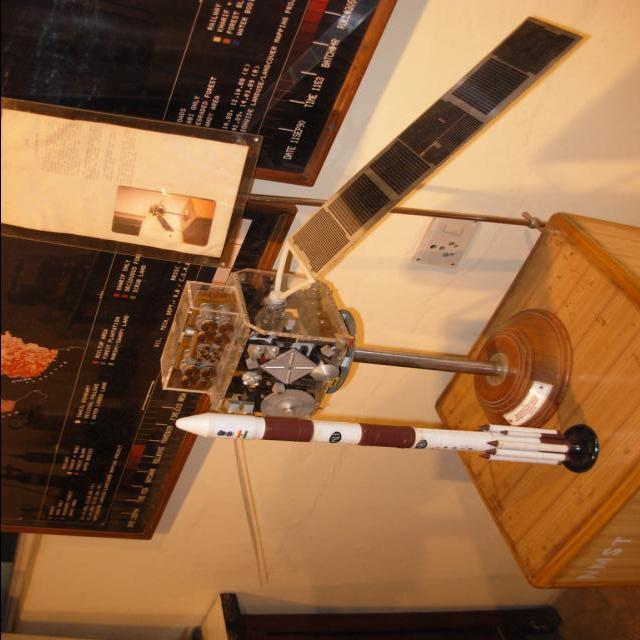Missile: (160, 402, 516, 476)
